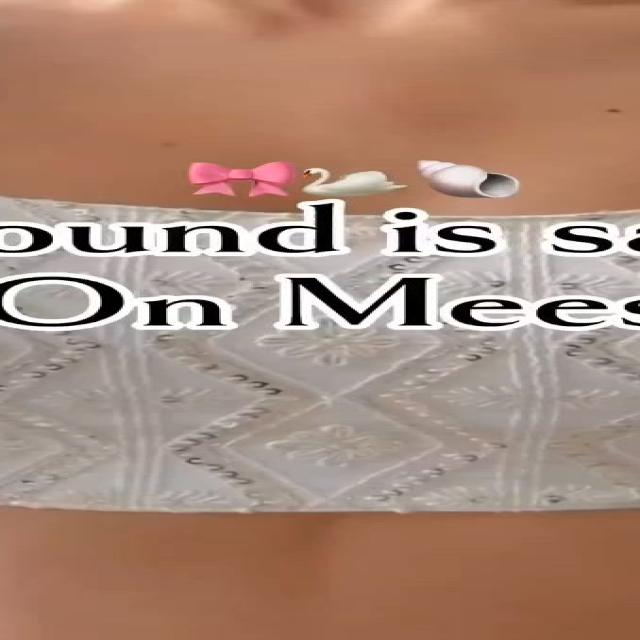sarees: (0, 13, 640, 514)
